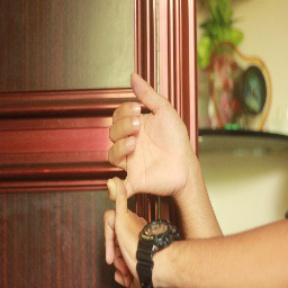S: (92, 70, 193, 288)
